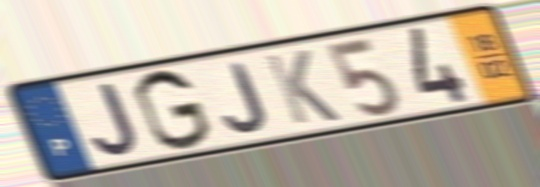4: (408, 24, 469, 107)
5: (321, 33, 407, 119)
G: (131, 68, 215, 154)
J: (90, 79, 143, 158), (221, 59, 271, 134)
K: (260, 47, 344, 128)
